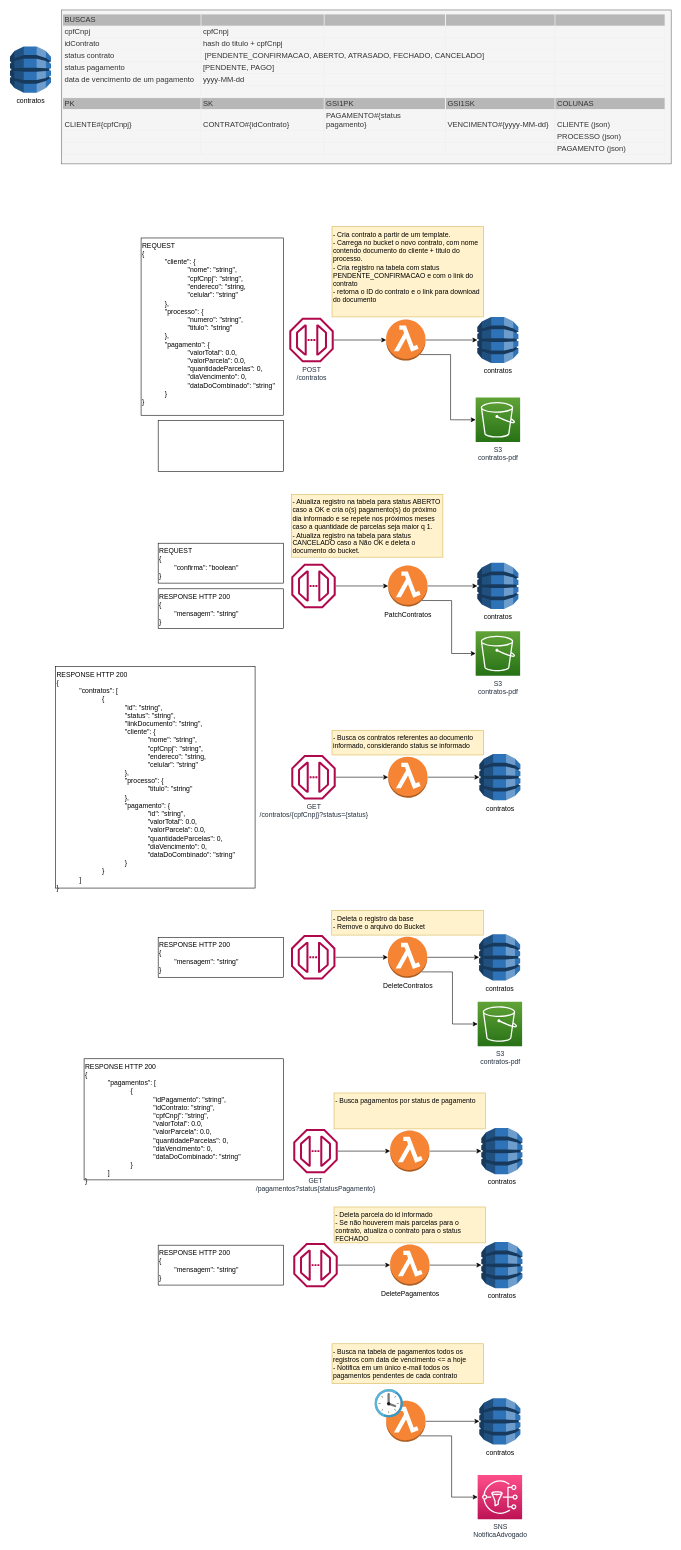
Image size: 681x1550. Some labels were removed from this diagram. The shapes that lost their labels are listed below. From the top down, each one's box as (x1, y1, x2, y2) in pixels, then its label:
(386, 319, 426, 361): PostContratos
(158, 420, 284, 472): RESPONSE HTTP 201 { "idContrato": "string", "linkDocumento": "string" }
(291, 563, 335, 608): PATCH /contratos/{id}
(388, 756, 427, 798): GetContratos
(291, 935, 335, 979): DELETE /contratos/{id}
(390, 1130, 429, 1172): GetPagamentos
(293, 1243, 337, 1287): DELETE /pagamentos/{id}
(386, 1400, 426, 1442): RotinaPagamentos
